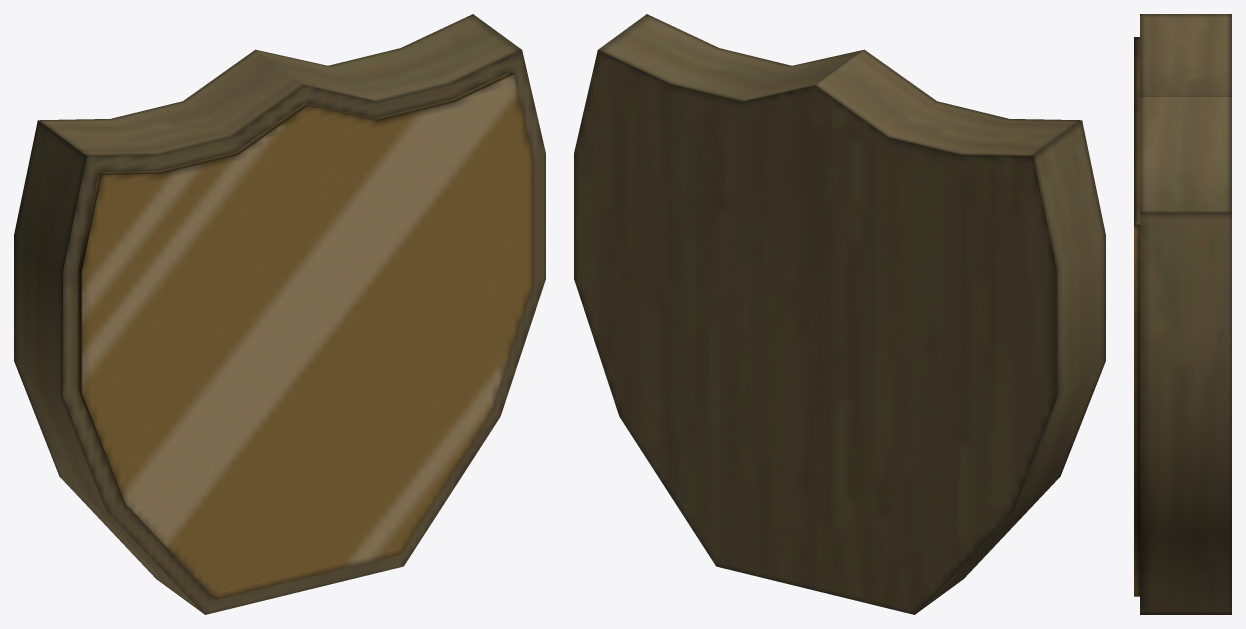
The model's file is Shield_Trophy.FBX.
3 views of the same model, side by side, from view 1: azimuth 30°, elevation 25°; view 2: azimuth 150°, elevation 25°; view 3: azimuth 270°, elevation 25° (orthographic). The views are drawn at different scales.
Parts seen in each view (by area): view 1: Shield_Trophy; view 2: Shield_Trophy; view 3: Shield_Trophy.
Part boxes in pixels (x1=…): Shield_Trophy: x1=14, y1=14, x2=545, y2=614; Shield_Trophy: x1=574, y1=14, x2=1105, y2=614; Shield_Trophy: x1=1134, y1=14, x2=1231, y2=614.
Bounding box in the file's own units: 17.04 × 17.04 × 3.2.
